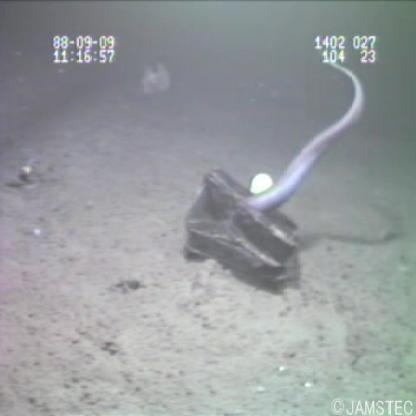Bio: (237, 58, 371, 218)
Rác: (178, 164, 302, 289)
